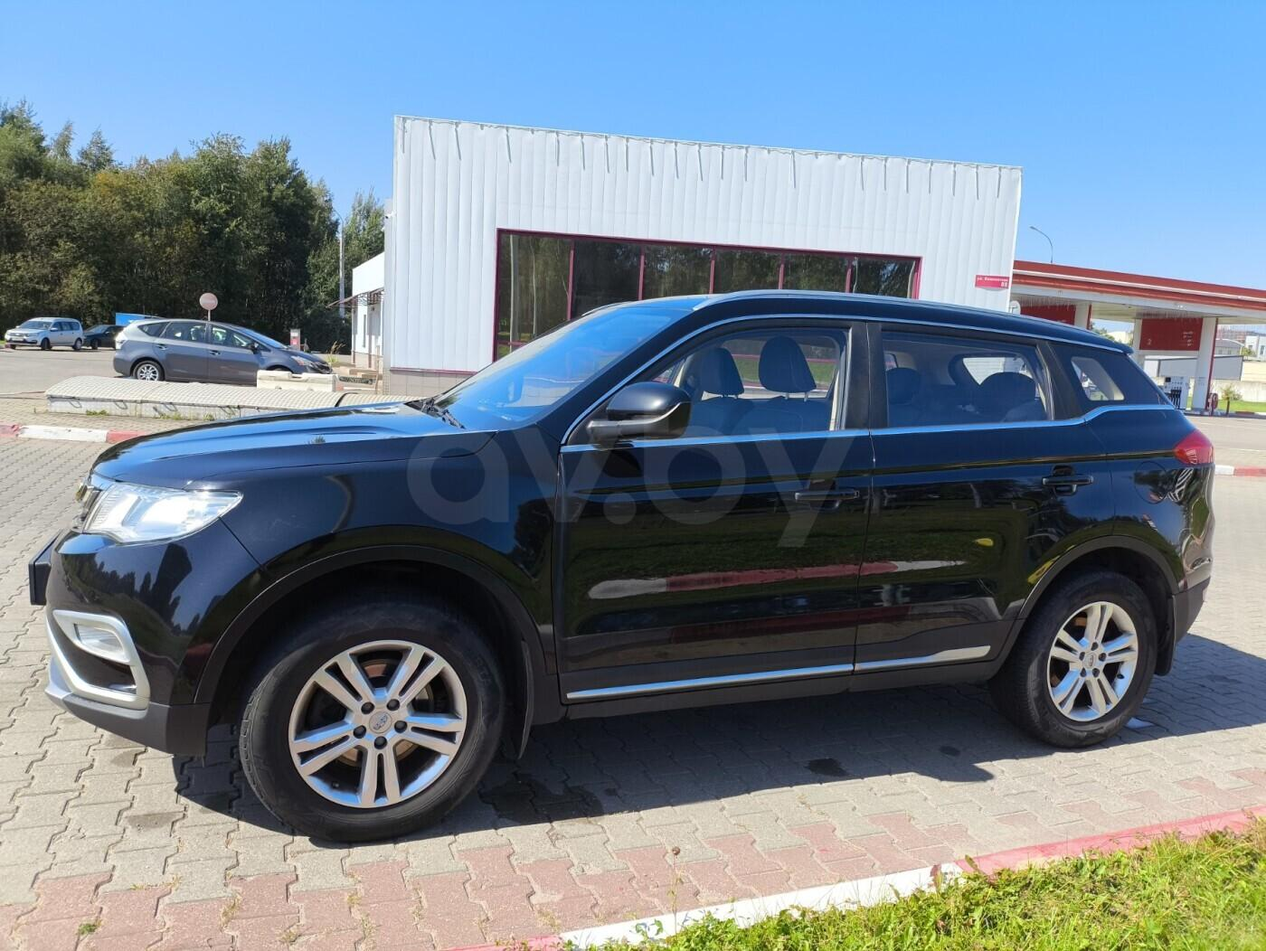Atlas_2016-2023: (28, 282, 1225, 841)
